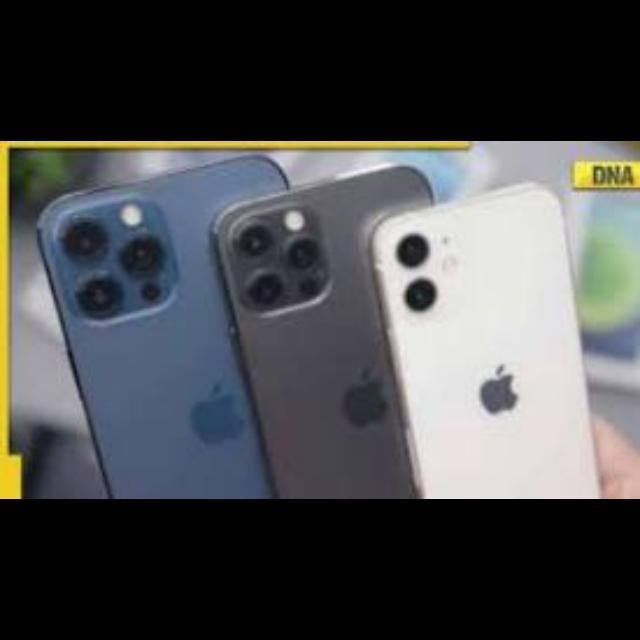PhoneUse: (202, 166, 440, 498), (28, 162, 246, 498), (370, 180, 584, 498)
